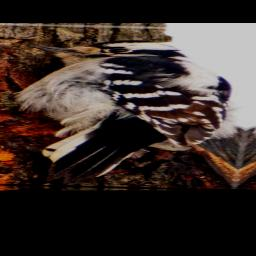Woodpecker: (0, 33, 256, 190)
